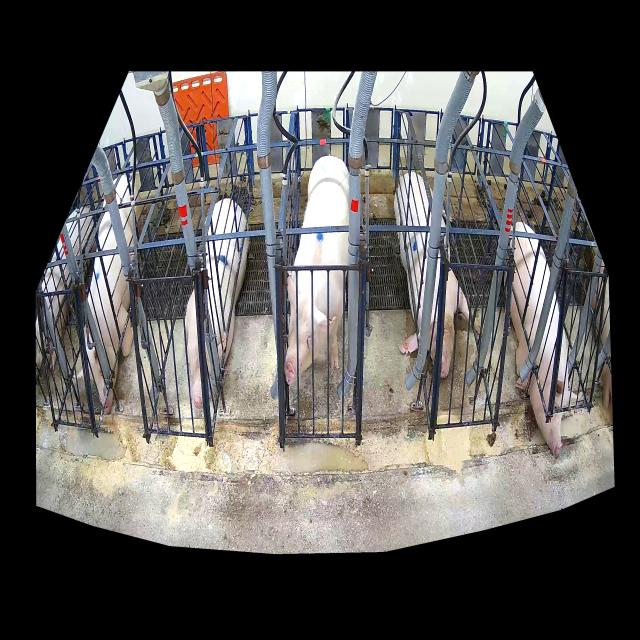pig: (394, 172, 469, 378), (511, 221, 577, 455), (284, 156, 349, 384), (84, 175, 143, 414), (184, 199, 248, 409)
